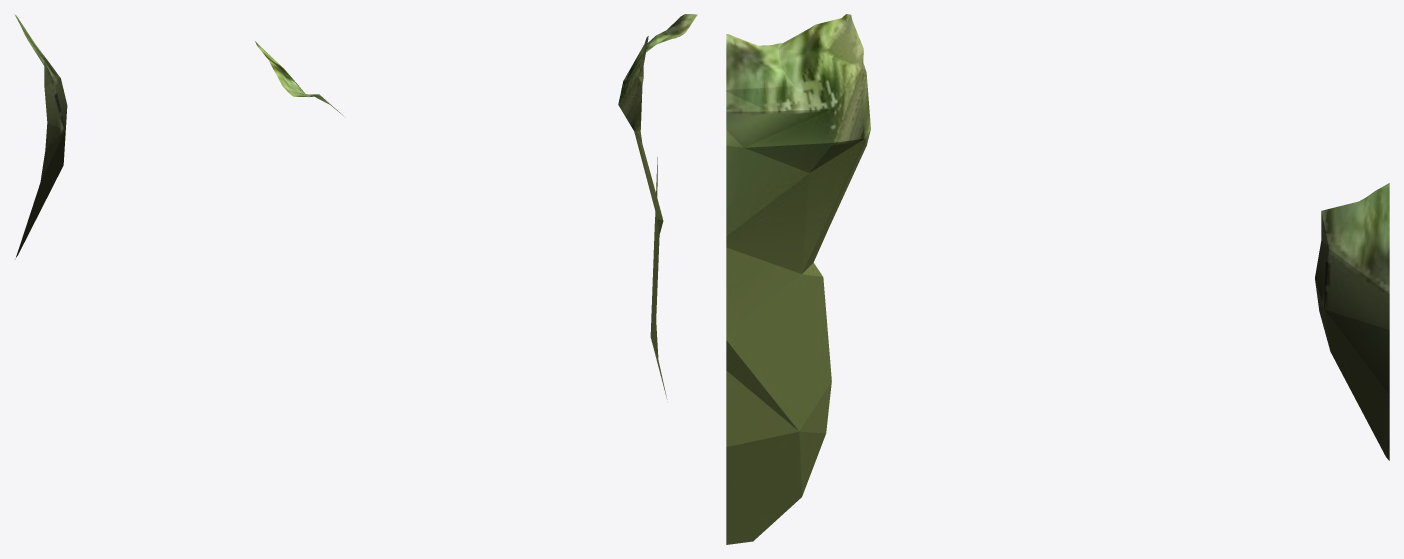
3 views of the same model, side by side, from view 1: azimuth 30°, elevation 25°; view 2: azimuth 150°, elevation 25°; view 3: azimuth 270°, elevation 25° (orthographic). The views are drawn at different scales.
Size of the model in its own units: 0.3081 by 2.59 by 2.95.
1 material, 1 textured.
